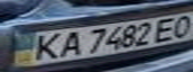2: (133, 20, 160, 47)
4: (106, 24, 127, 52)
7: (81, 26, 109, 55)
8: (121, 21, 142, 50)
A: (54, 29, 84, 58)
E: (151, 16, 181, 43)
K: (24, 30, 66, 62)
O: (169, 12, 193, 38)
